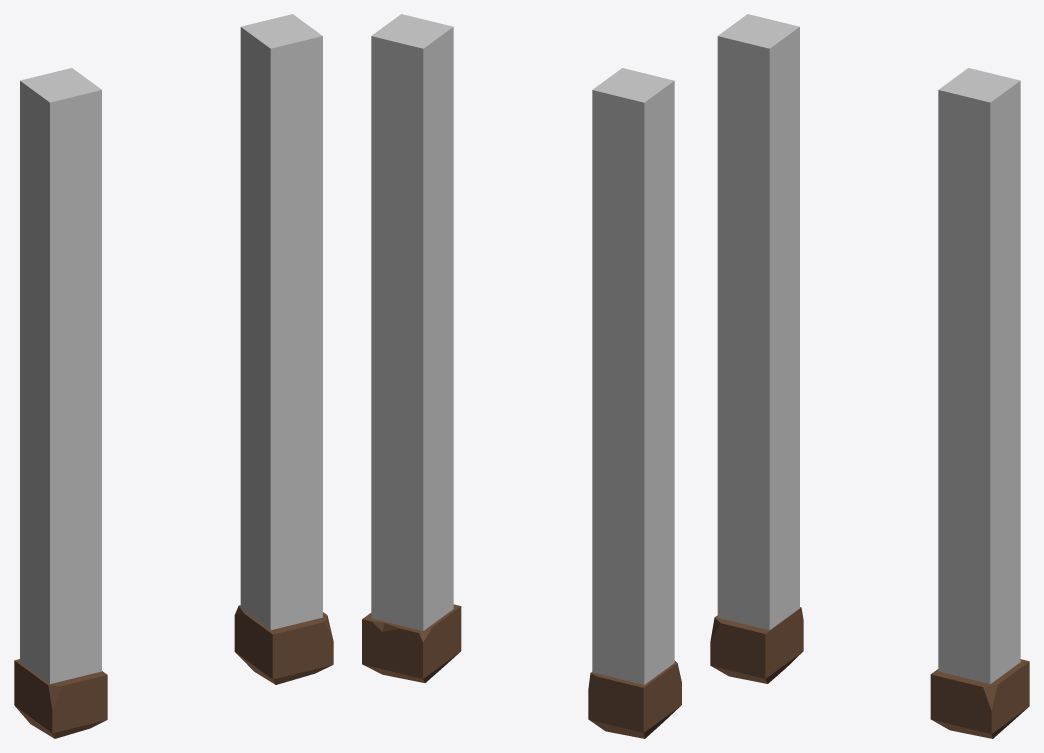
Rendered from SM_Bld_Stairs_Curved_Pillars_01.fbx.
The picture shows the model from 3 angles, left to right: view 1: azimuth 30°, elevation 25°; view 2: azimuth 150°, elevation 25°; view 3: azimuth 330°, elevation 25°; orthographic projection.
Visible parts, largest first — view 1: SM_Bld_Stairs_Curved_Pillars_01_ConvexHulls, SM_Bld_Stairs_Curved_Pillars_01; view 2: SM_Bld_Stairs_Curved_Pillars_01_ConvexHulls, SM_Bld_Stairs_Curved_Pillars_01; view 3: SM_Bld_Stairs_Curved_Pillars_01_ConvexHulls, SM_Bld_Stairs_Curved_Pillars_01.
Boxes of the visible parts, left/top/right/bottom form: SM_Bld_Stairs_Curved_Pillars_01_ConvexHulls: left=20, top=14, right=322, bottom=683; SM_Bld_Stairs_Curved_Pillars_01: left=14, top=605, right=333, bottom=738; SM_Bld_Stairs_Curved_Pillars_01_ConvexHulls: left=371, top=14, right=674, bottom=684; SM_Bld_Stairs_Curved_Pillars_01: left=362, top=604, right=681, bottom=738; SM_Bld_Stairs_Curved_Pillars_01_ConvexHulls: left=717, top=14, right=1020, bottom=683; SM_Bld_Stairs_Curved_Pillars_01: left=710, top=607, right=1029, bottom=738.
Bounding box in the file's own units: 151 × 35.48 × 329.
Materials: 2 (1 with a texture image).
